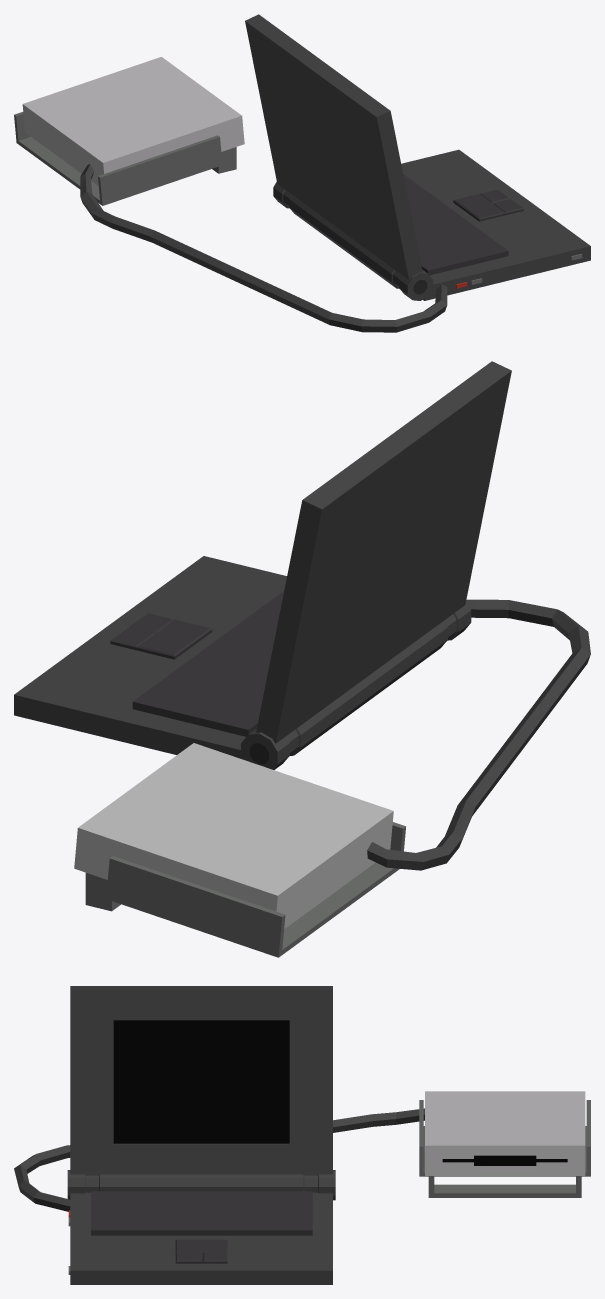
The model's file is SM_Laptop_01.glb.
3 views of the same model, one above another, from view 1: azimuth 30°, elevation 25°; view 2: azimuth 150°, elevation 25°; view 3: azimuth 270°, elevation 25° (orthographic). The views are drawn at different scales.
Visible parts, largest first — view 1: SM_Laptop_01; view 2: SM_Laptop_01; view 3: SM_Laptop_01.
Boxes of the visible parts, <box> form: SM_Laptop_01: <box>14,14,590,332</box>; SM_Laptop_01: <box>14,361,590,957</box>; SM_Laptop_01: <box>14,986,590,1284</box>.
Bounding box in the file's own units: 0.7924 × 0.4491 × 1.19.
1 material, 1 textured.
